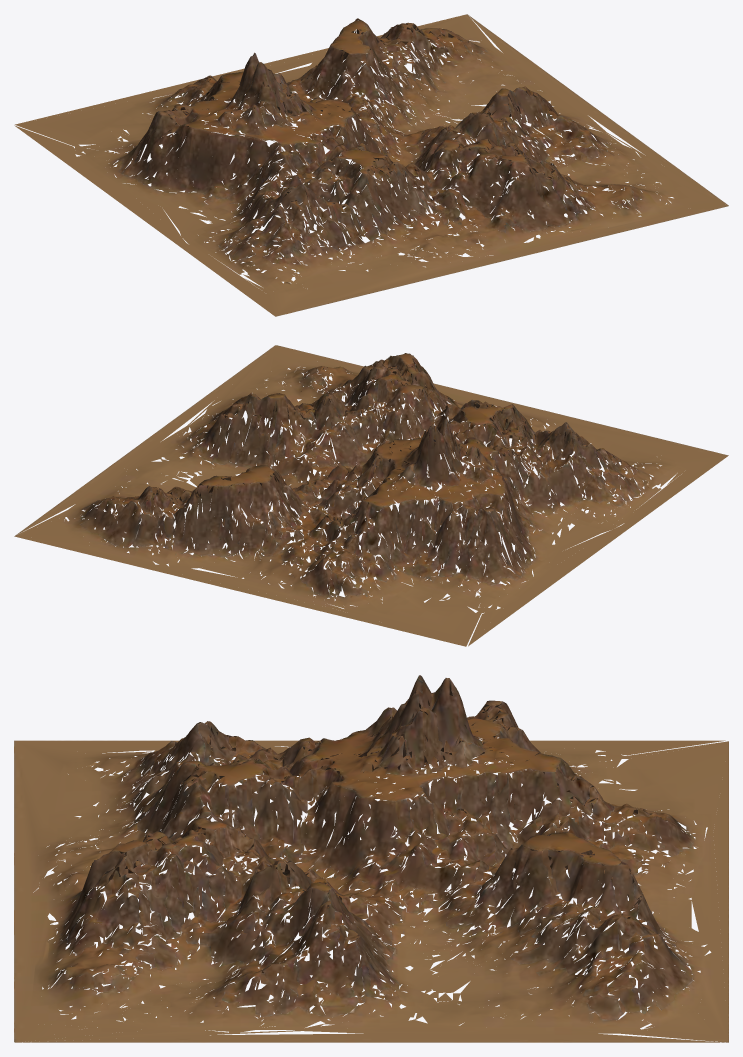
File: canyon_red_b.glb
3 renders of one model, top to bottom at view 1: azimuth 30°, elevation 25°; view 2: azimuth 150°, elevation 25°; view 3: azimuth 270°, elevation 25°, orthographic. The views are drawn at different scales.
Visible parts, largest first — view 1: Material_001-material (×3); view 2: Material_001-material (×3); view 3: Material_001-material (×3).
Boxes of the visible parts, x1=… form: Material_001-material (×3): x1=14, y1=14, x2=728, y2=316; Material_001-material (×3): x1=14, y1=345, x2=728, y2=646; Material_001-material (×3): x1=14, y1=675, x2=728, y2=1042.
Bounding box in the file's own units: 20.33 × 4.86 × 20.33.
1 material, 1 textured.
